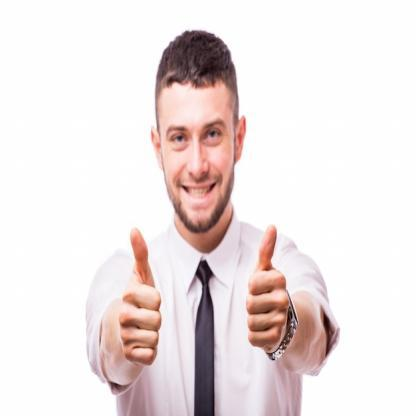thumb_up: (116, 221, 168, 367), (243, 218, 292, 358)
